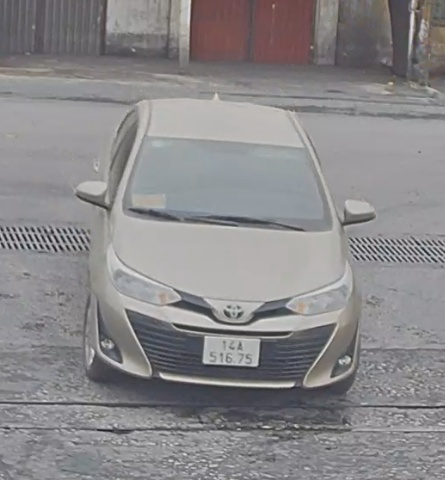vehicle plate: (201, 331, 266, 372)
